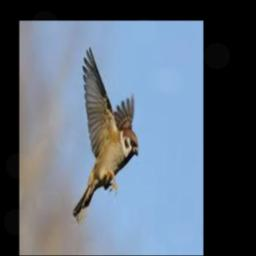Sparrow: (73, 47, 138, 225)
